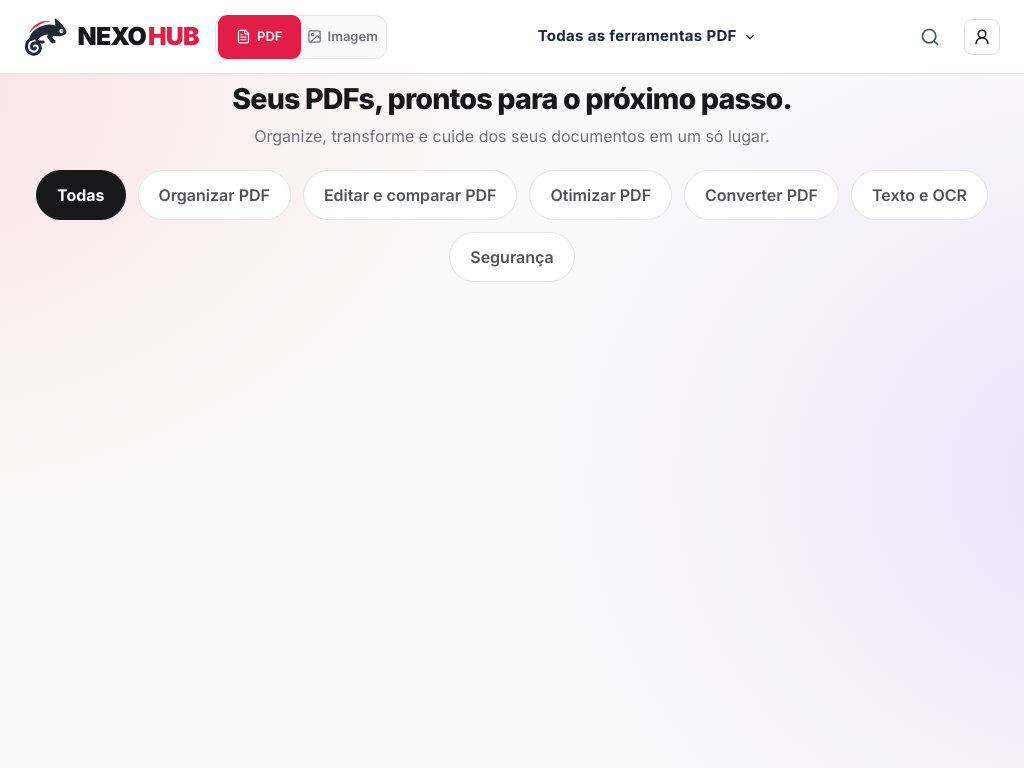
Test: App › suporta alternância entre Modo PDF e Modo Imagem via SegmentedZoneToggle com atualização de data-zone e rota
The width and height of the screenshot is (1024, 768).
Alterna para o Modo Imagem
What coordinates should you click on to do the following:
click the button with aria-label "alternar para modo imagem"
I would click on:
 (342, 36)
Its box is [301,14,384,58].
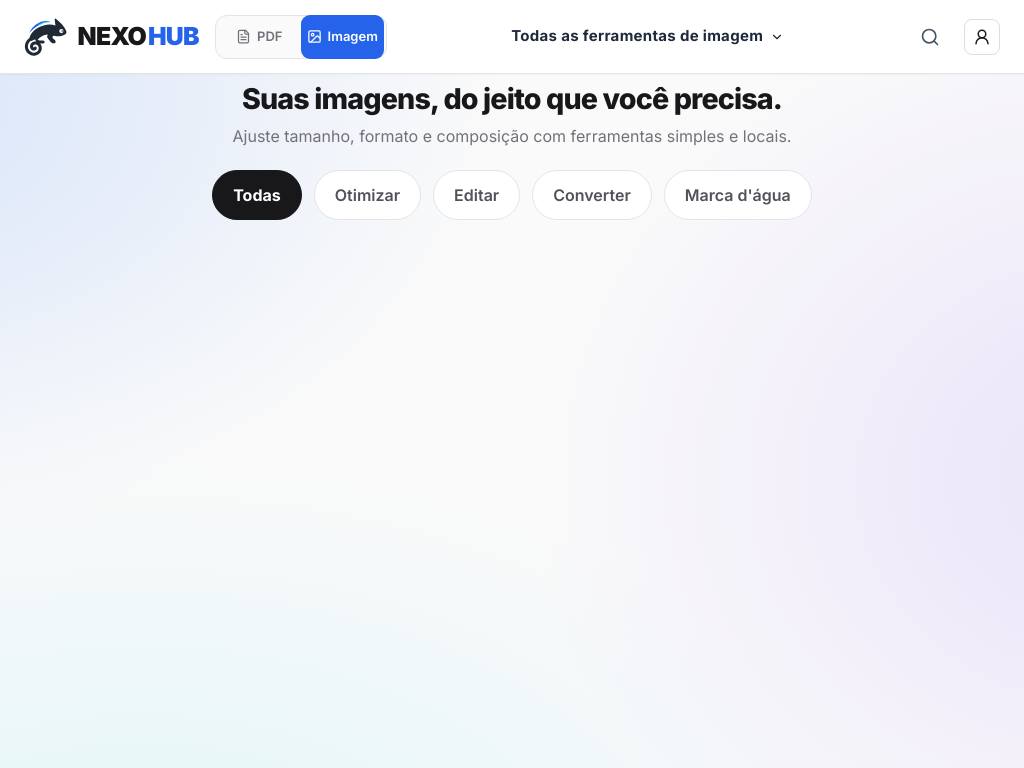
Expected: the heading "Suas imagens, do jeito que você precisa." is shown, [242,81,782,116]
Expected: the element with test id "panel-zone-img" is shown, [212,81,812,220]
Retorna para o Modo PDF
What coordinates should you click on to do the following:
click the button with aria-label "alternar para modo pdf"
I would click on:
 (259, 36)
Its box is [218,14,301,58].
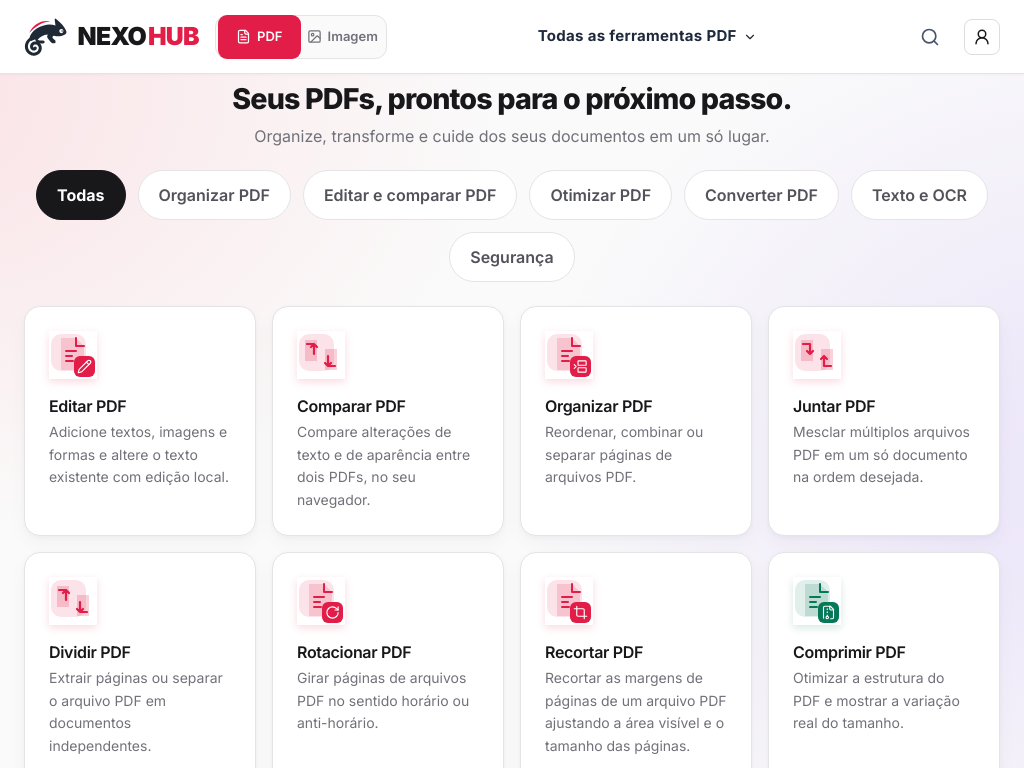
Expected: the heading "Seus PDFs, prontos para o próximo passo." is shown, [232,81,792,116]
